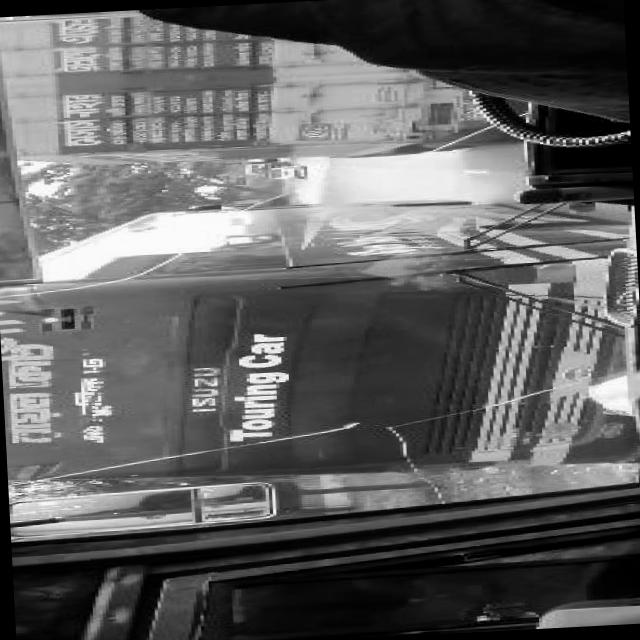bus: (0, 192, 640, 494)
car: (264, 166, 298, 180)
truck: (9, 0, 504, 174)
